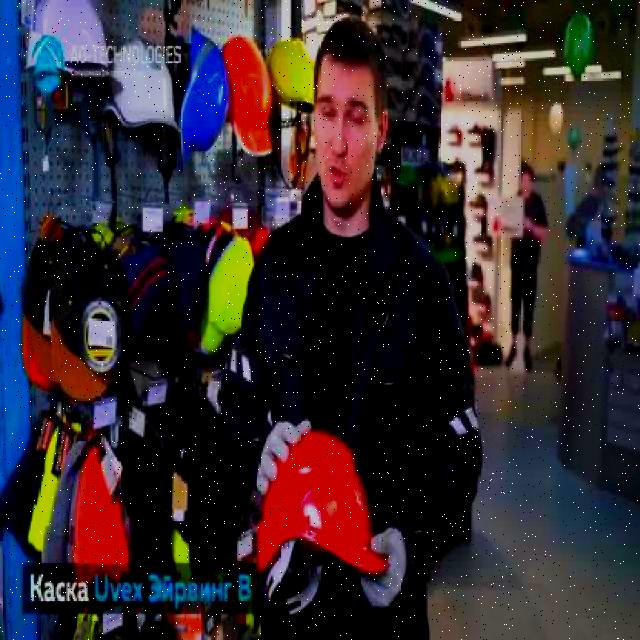Gloves: (256, 417, 315, 495), (356, 525, 409, 610)
Helmet: (258, 428, 393, 584), (178, 25, 233, 169), (100, 38, 180, 134), (222, 34, 276, 157), (27, 0, 110, 72), (267, 36, 316, 112)
